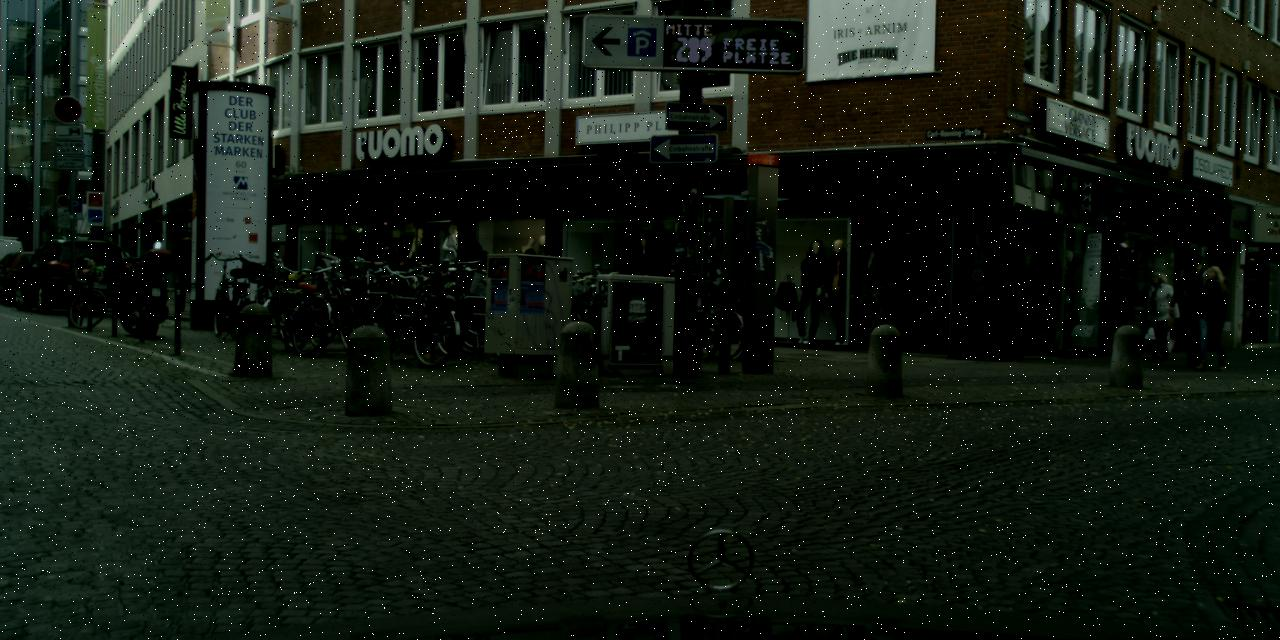ped: (1172, 252, 1218, 368), (1191, 265, 1234, 370), (1142, 272, 1177, 359), (460, 240, 494, 326), (172, 236, 202, 310)
